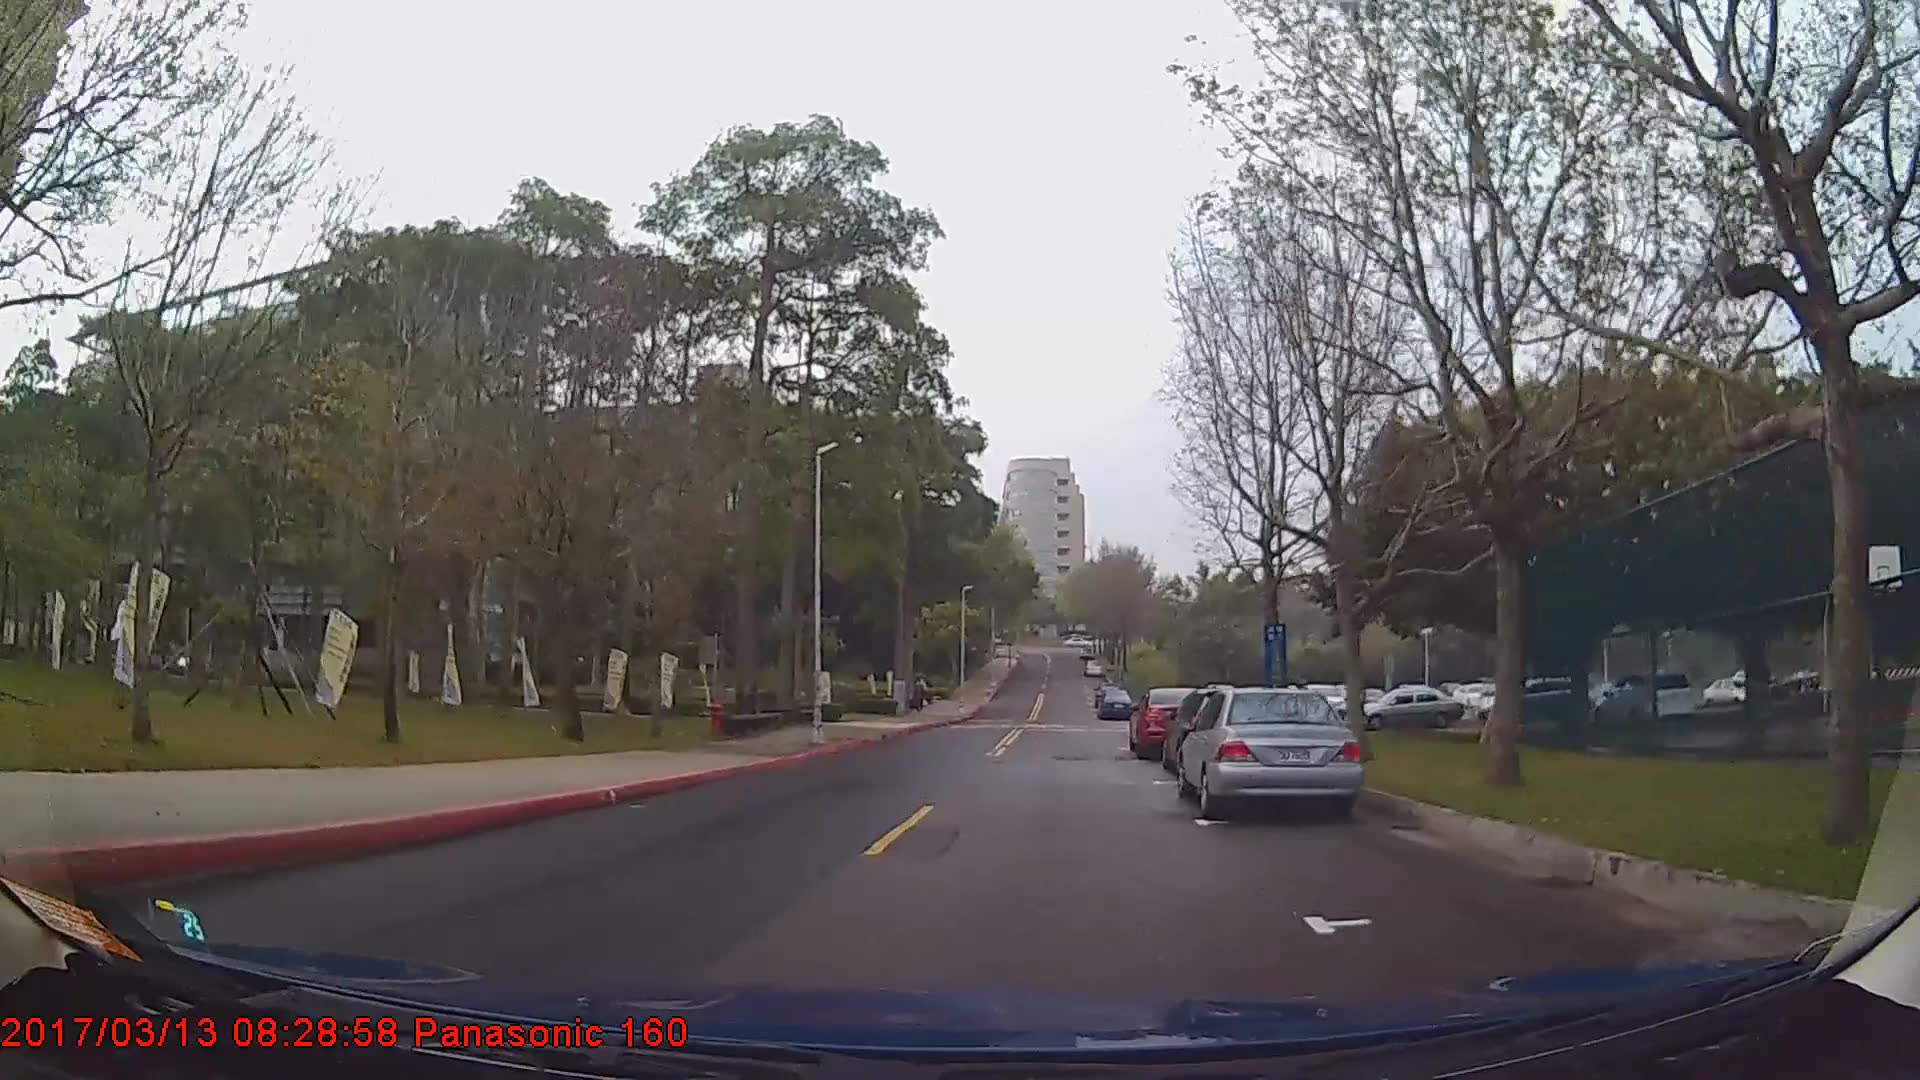vehicle: (1178, 684, 1364, 819), (1130, 682, 1221, 757), (1588, 667, 1695, 728), (1472, 673, 1592, 723), (1358, 682, 1458, 735), (1095, 687, 1130, 721)
